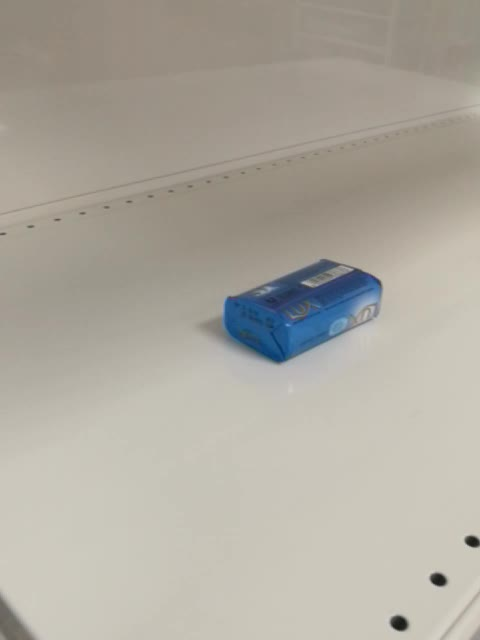soap: (222, 257, 385, 365)
